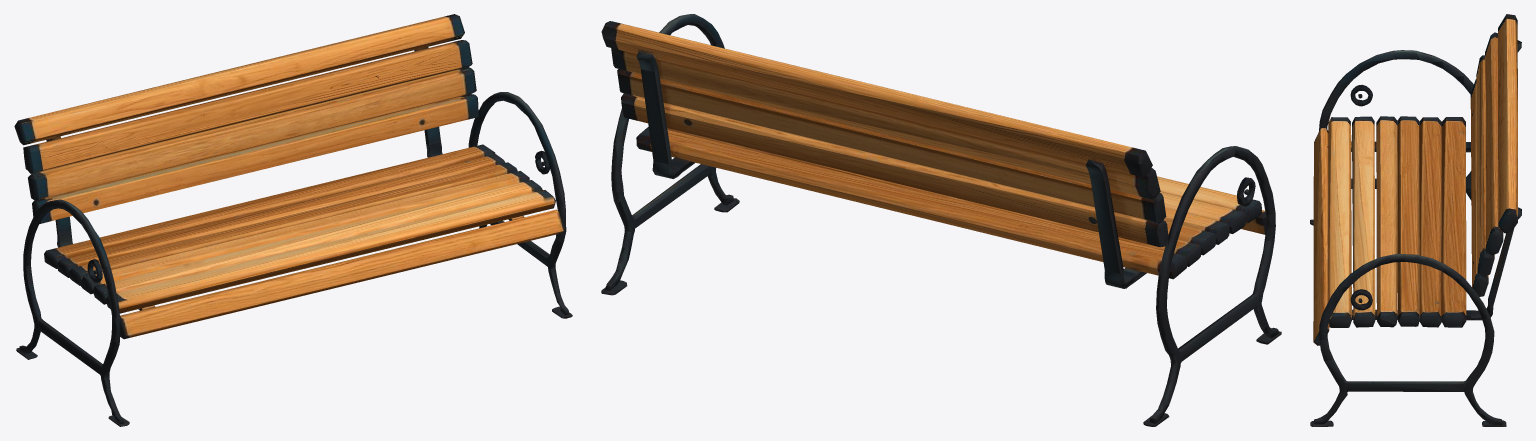
File: park-bench.glb
3 views of the same model, side by side, from view 1: azimuth 30°, elevation 25°; view 2: azimuth 150°, elevation 25°; view 3: azimuth 270°, elevation 25° (orthographic). The views are drawn at different scales.
Bounding box in the file's own units: 1.6 × 0.7639 × 0.6964.
1 material, 1 textured.
